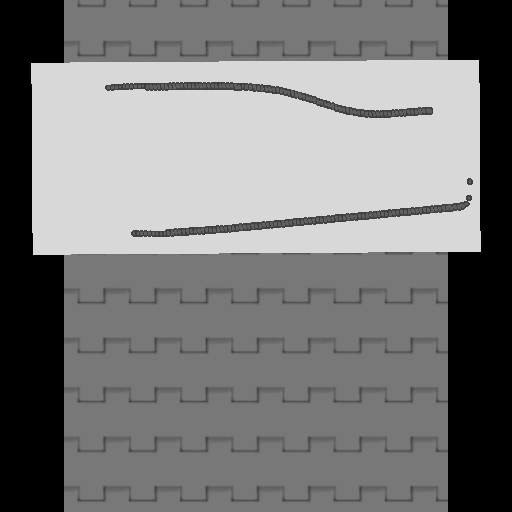Defect: (58, 81, 132, 237)
